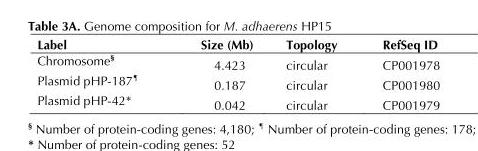table: (36, 36, 439, 112)
table column: (36, 36, 168, 112), (168, 36, 268, 112), (268, 36, 359, 112), (359, 36, 439, 112)
table column header: (36, 36, 439, 51)
table row: (36, 51, 439, 72), (36, 72, 439, 92), (36, 92, 439, 112), (36, 36, 439, 51)
